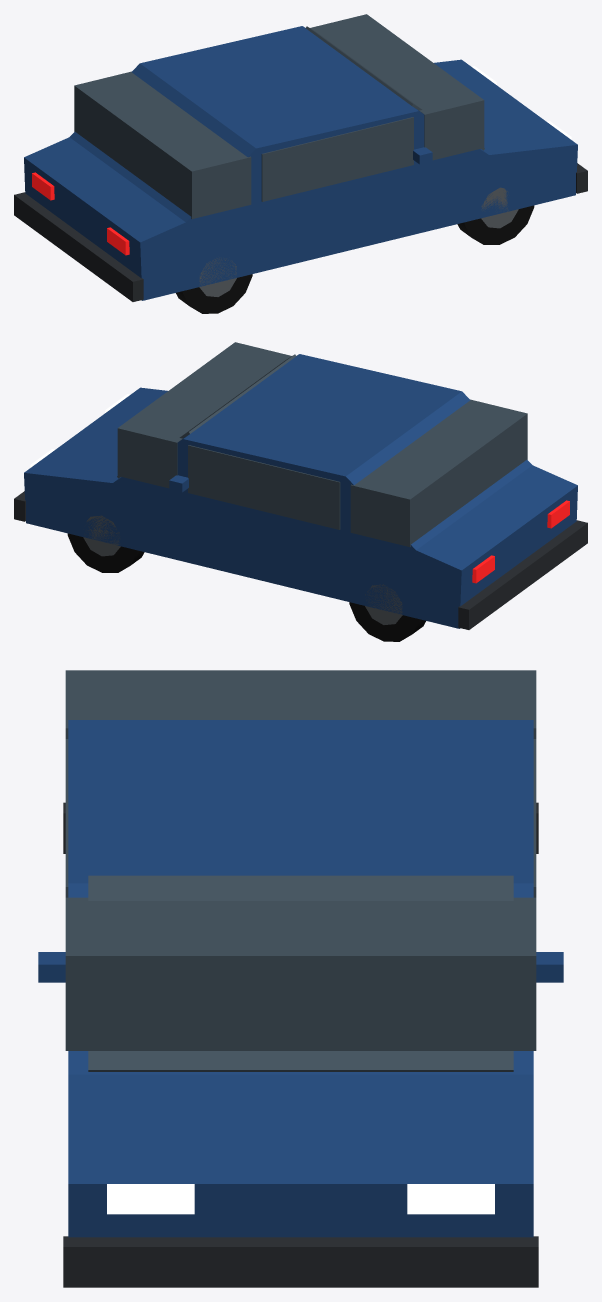
The model's file is cg-car-blue.glb.
3 views of the same model, one above another, from view 1: azimuth 30°, elevation 25°; view 2: azimuth 150°, elevation 25°; view 3: azimuth 270°, elevation 25° (orthographic). The views are drawn at different scales.
Visible parts, largest first — view 1: cg-car-blue; view 2: cg-car-blue; view 3: cg-car-blue.
Boxes of the visible parts, bbox=[...] form: cg-car-blue: bbox=[14, 14, 587, 313]; cg-car-blue: bbox=[14, 342, 587, 641]; cg-car-blue: bbox=[38, 670, 563, 1287].
Size of the model in its own units: 4.2 by 1.39 by 2.1.
